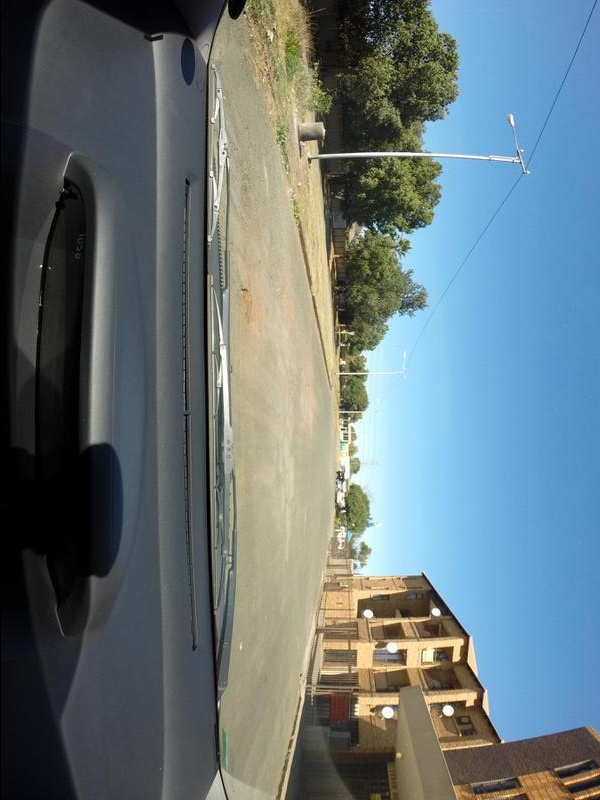pothole: (241, 285, 252, 323), (242, 176, 252, 211)
